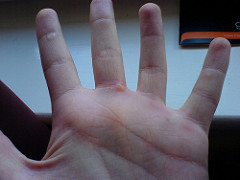palm: (60, 92, 211, 177)
